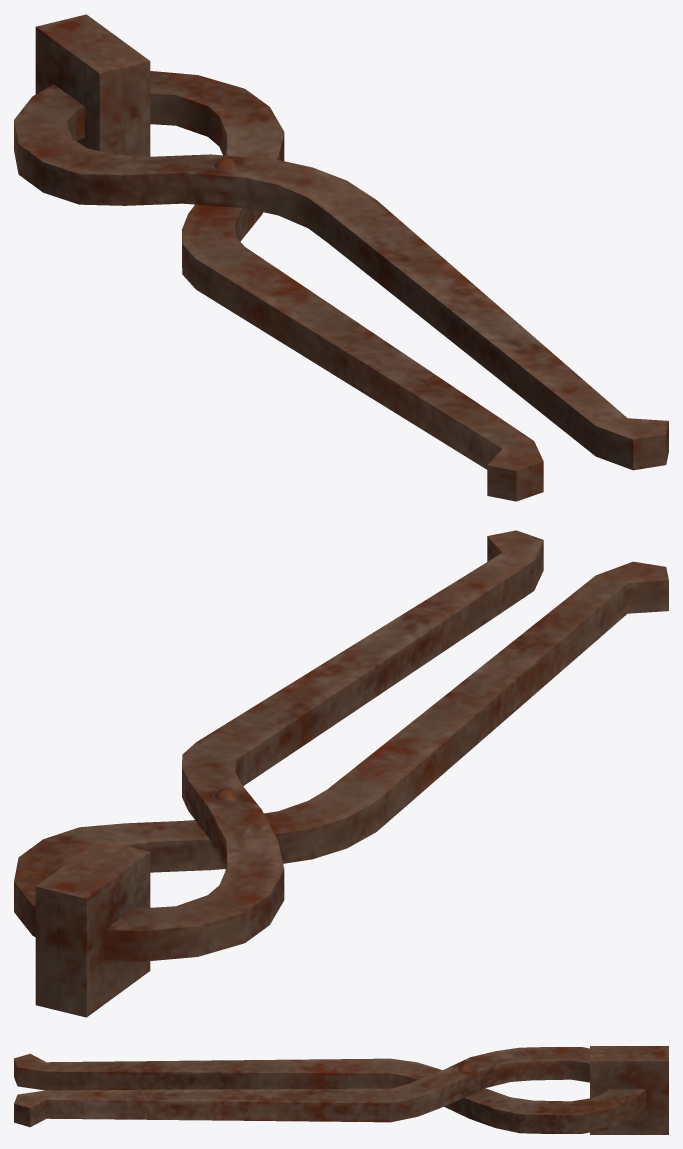
Rendered from sb_obj_indoor012_BlackSmith_item02.fbx.
3 views of the same model, one above another, from view 1: azimuth 30°, elevation 25°; view 2: azimuth 150°, elevation 25°; view 3: azimuth 270°, elevation 25° (orthographic). The views are drawn at different scales.
Visible parts, largest first — view 1: sb_obj_indoor012_BlackSmith_item02; view 2: sb_obj_indoor012_BlackSmith_item02; view 3: sb_obj_indoor012_BlackSmith_item02.
Boxes of the visible parts, x1,y1,x2,y2 form: sb_obj_indoor012_BlackSmith_item02: [14, 14, 668, 501]; sb_obj_indoor012_BlackSmith_item02: [14, 530, 668, 1017]; sb_obj_indoor012_BlackSmith_item02: [14, 1046, 668, 1134].
Size of the model in its own units: 0.155 by 0.0777 by 0.6283.
